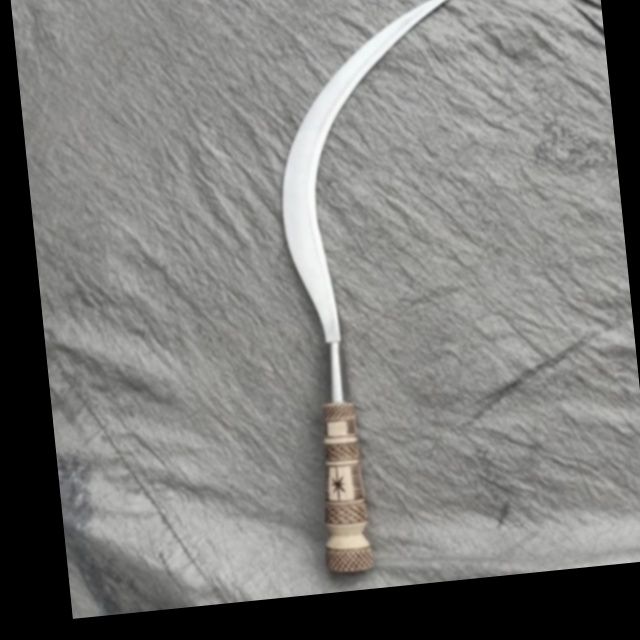Sharp-Object: (242, 0, 524, 579)
